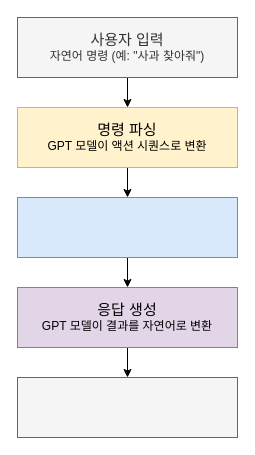
Some shapes in this 255 by 455 pixel diagram are drawn without their labels. Each missing label, with the box of its shape:
시퀀스 실행 Raspberry Pi가 하나씩 실행 + 결과 보고: (16, 196, 238, 258)
자연어 응답 출력 터미널에 출력: (16, 376, 238, 438)
